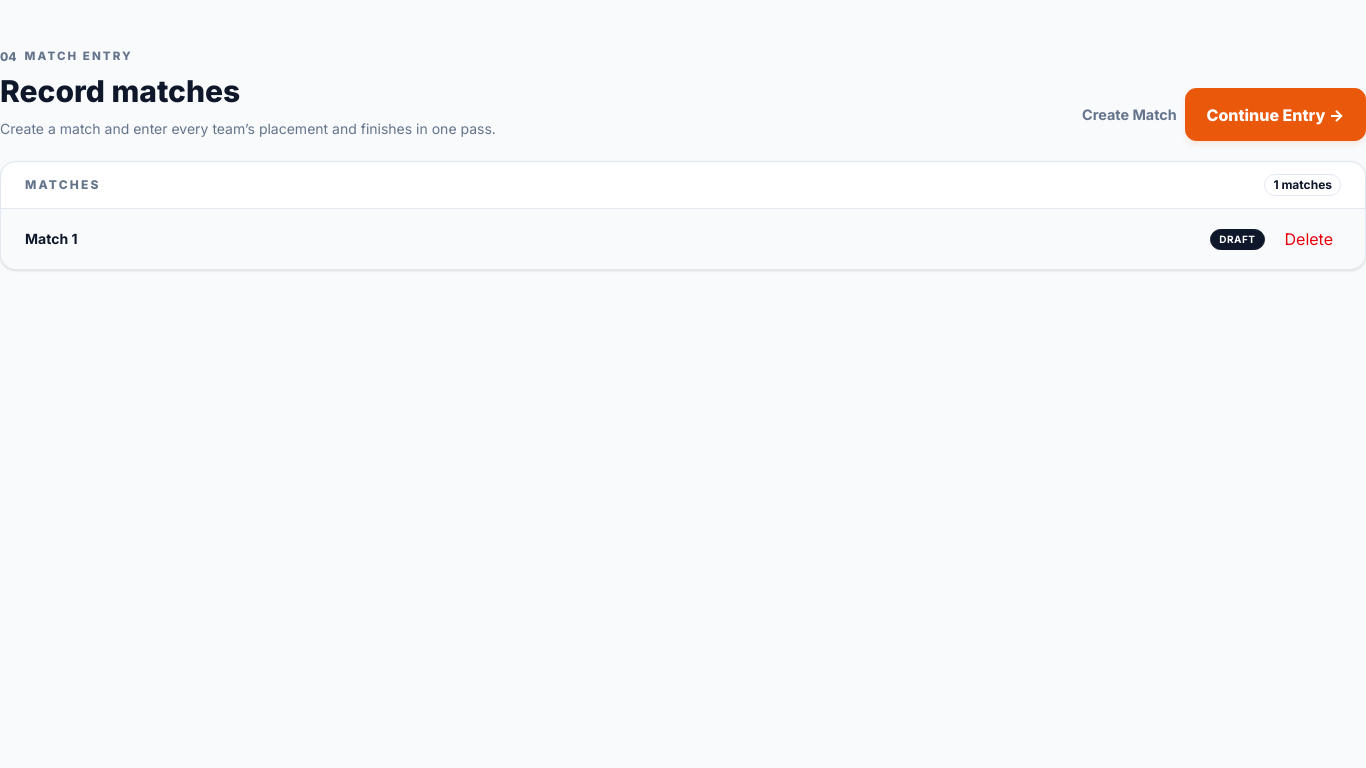
Test case: Match Delete Interaction Tests › opening and cancelling the AlertDialog performs zero mutations
Click the button with aria-label "Delete Match 1" at [1309, 239], box x1=1276 y1=219 x2=1341 y2=259
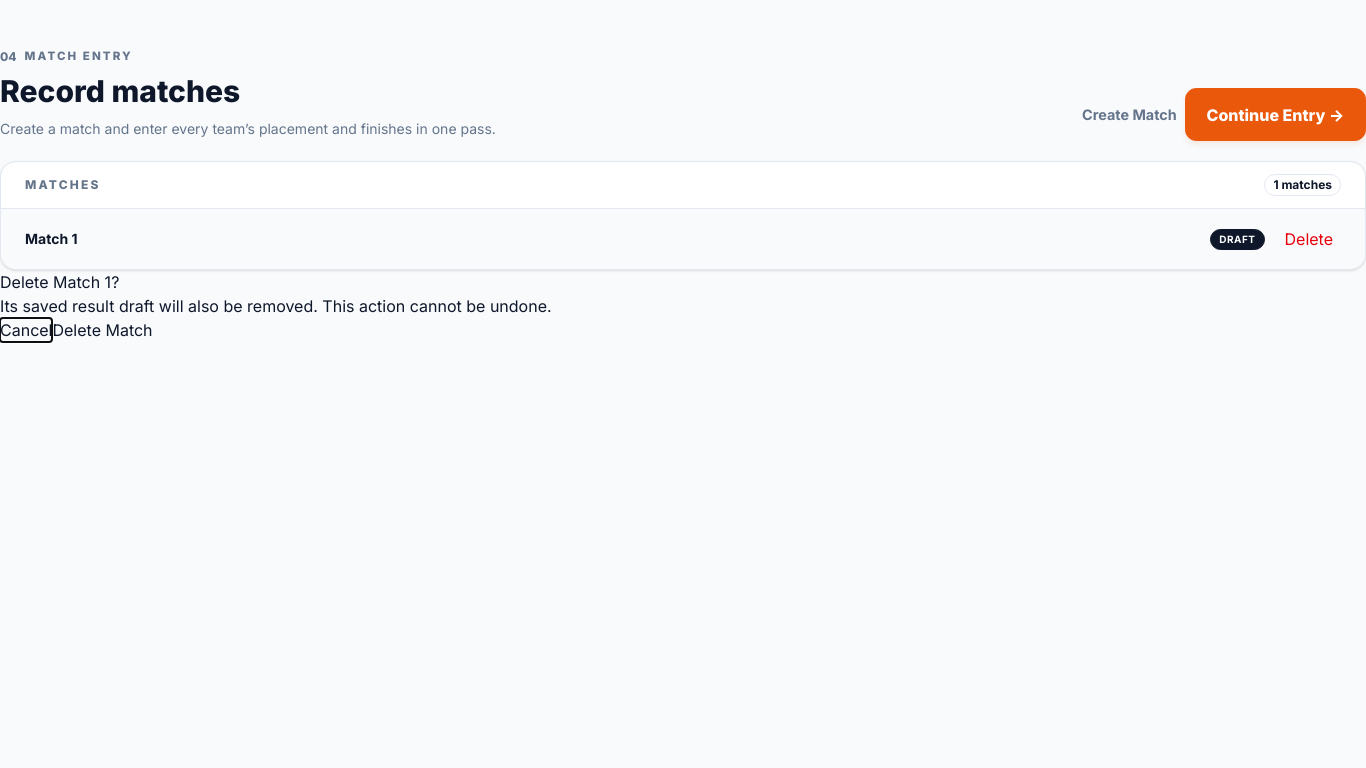
expect the dialog is shown: met, box x1=0 y1=272 x2=552 y2=342
Click the button "Cancel" at [26, 330], box x1=0 y1=318 x2=52 y2=342
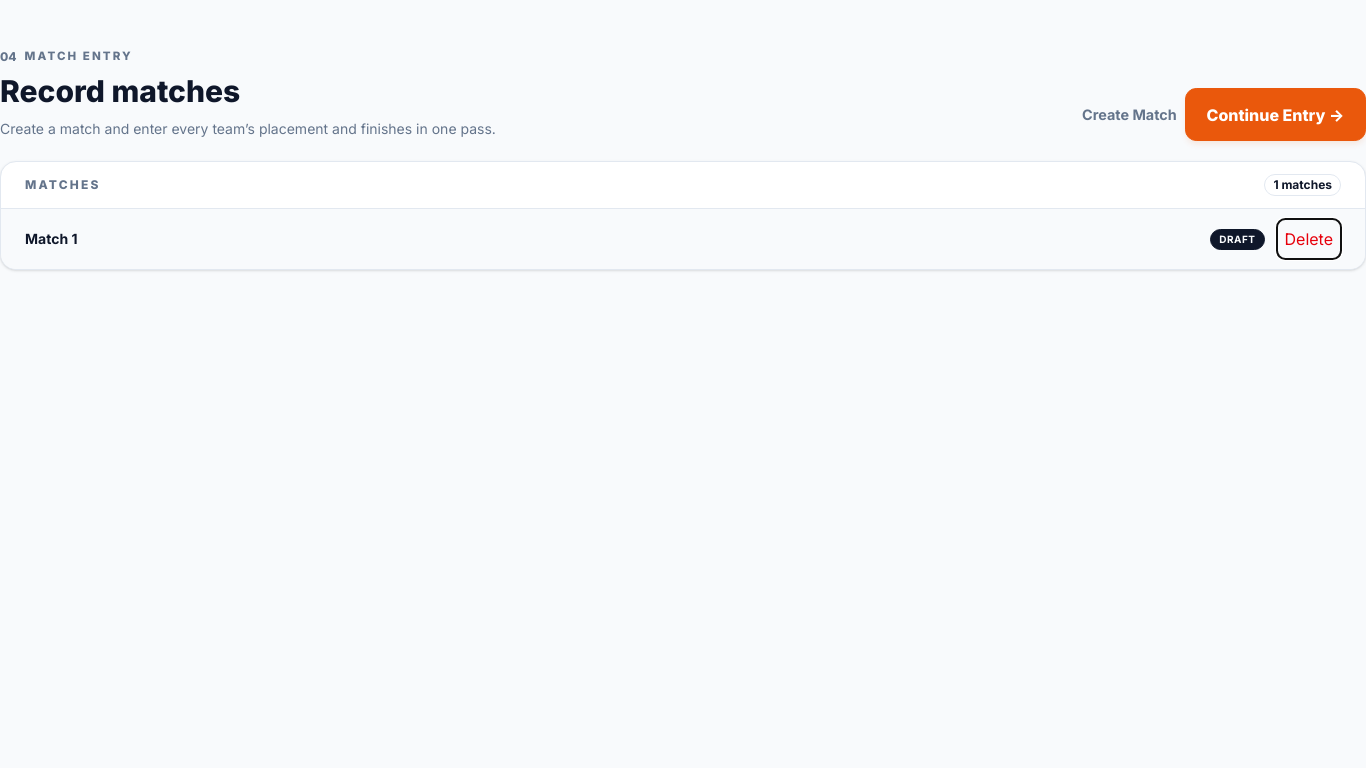
expect the dialog is gone: met
